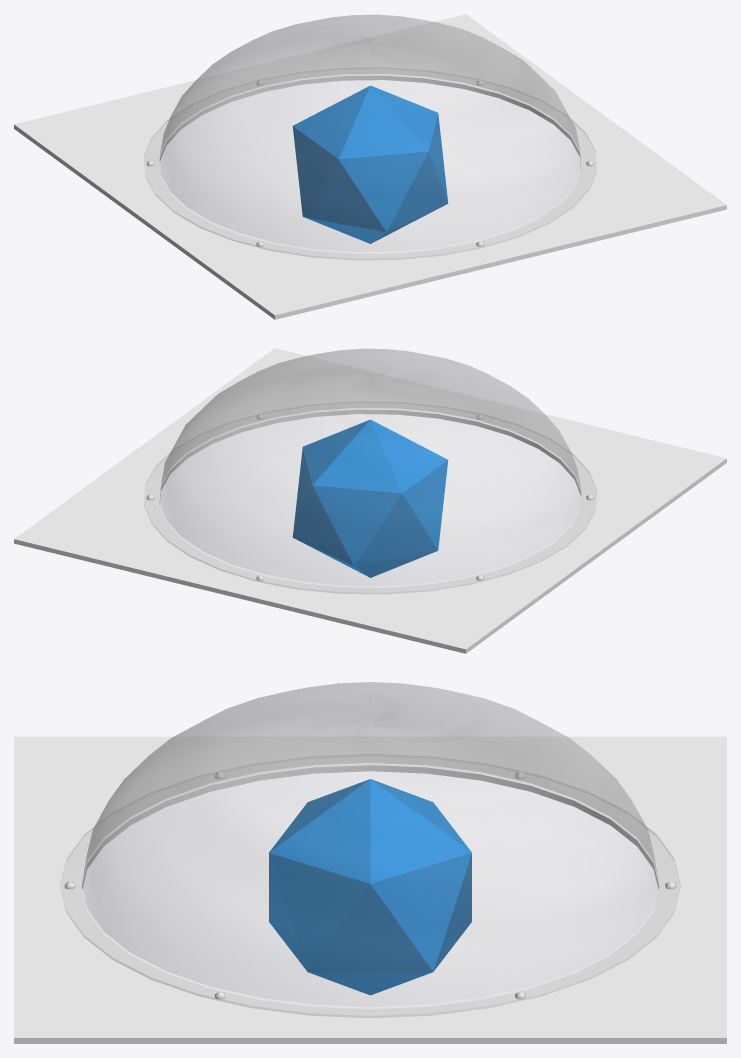
The model's file is Bubble.glb.
3 renders of one model, top to bottom at view 1: azimuth 30°, elevation 25°; view 2: azimuth 150°, elevation 25°; view 3: azimuth 270°, elevation 25°, orthographic. The views are drawn at different scales.
Visible parts, largest first — view 1: Booble, Joint.032; view 2: Booble, Joint.032; view 3: Booble, Joint.032.
Boxes of the visible parts, x1,y1,x2,y2 form: Booble: (14,14,726,319); Joint.032: (292,85,448,243); Booble: (14,348,726,653); Joint.032: (292,419,448,577); Booble: (14,682,726,1043); Joint.032: (269,779,471,995).
Bounding box in the file's own units: 0.9093 × 0.3843 × 0.9093.
4 materials, 1 textured.
